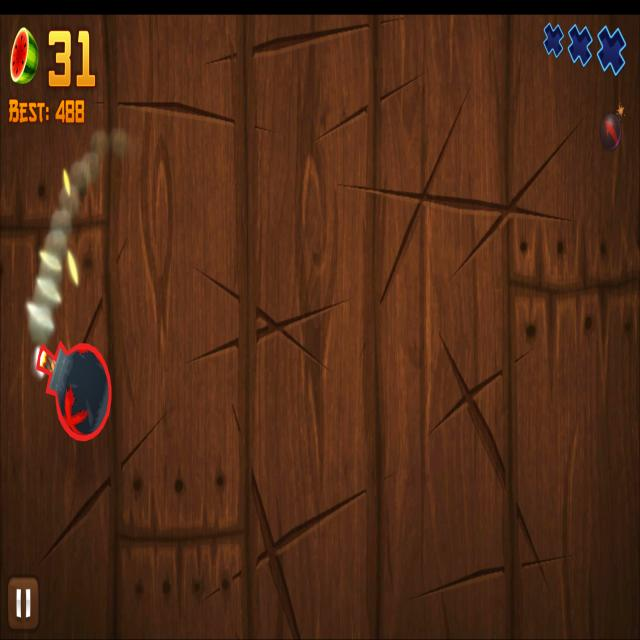bomb: (36, 342, 112, 442)
